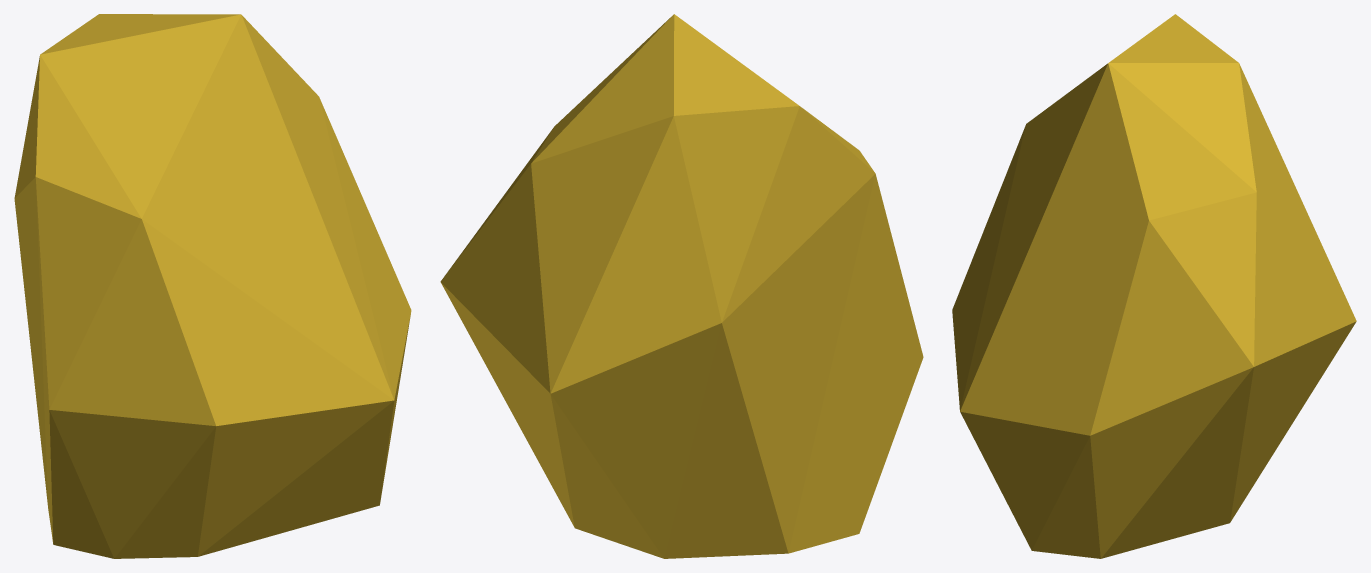
Rendered from co_Bush08_B.fbx.
The picture shows the model from 3 angles, left to right: view 1: azimuth 30°, elevation 25°; view 2: azimuth 150°, elevation 25°; view 3: azimuth 270°, elevation 25°; orthographic projection. The views are drawn at different scales.
Parts seen in each view (by area): view 1: Bush08_B; view 2: Bush08_B; view 3: Bush08_B.
Boxes of the visible parts, left/top/right/bottom form: Bush08_B: left=14, top=14, right=411, bottom=558; Bush08_B: left=440, top=14, right=923, bottom=558; Bush08_B: left=952, top=14, right=1356, bottom=558.
Bounding box in the file's own units: 4.32 × 5.22 × 4.3.
